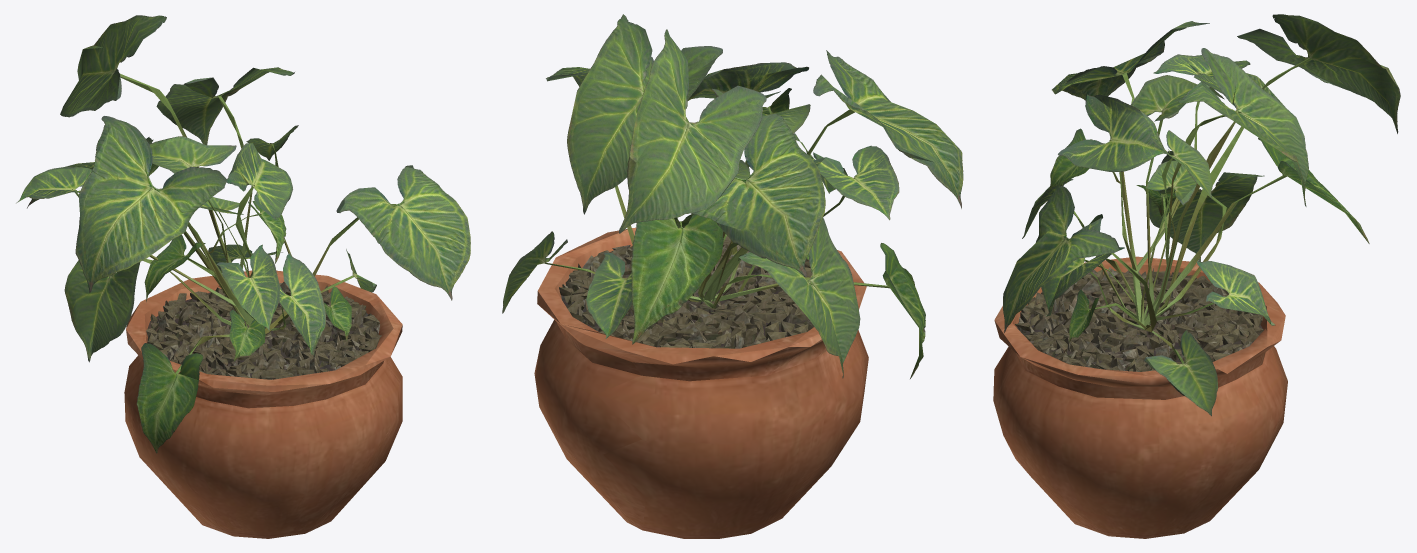
The model's file is potted_plant_02.glb.
3 views of the same model, side by side, from view 1: azimuth 30°, elevation 25°; view 2: azimuth 150°, elevation 25°; view 3: azimuth 270°, elevation 25° (orthographic). The views are drawn at different scales.
Parts seen in each view (by area): view 1: potted_plant_02; view 2: potted_plant_02; view 3: potted_plant_02.
Part boxes in pixels (x1=…): potted_plant_02: x1=16, y1=15, x2=470, y2=538; potted_plant_02: x1=502, y1=14, x2=963, y2=538; potted_plant_02: x1=993, y1=14, x2=1400, y2=538.
Bounding box in the file's own units: 0.7011 × 0.842 × 0.6578.
2 materials, 2 textured.
